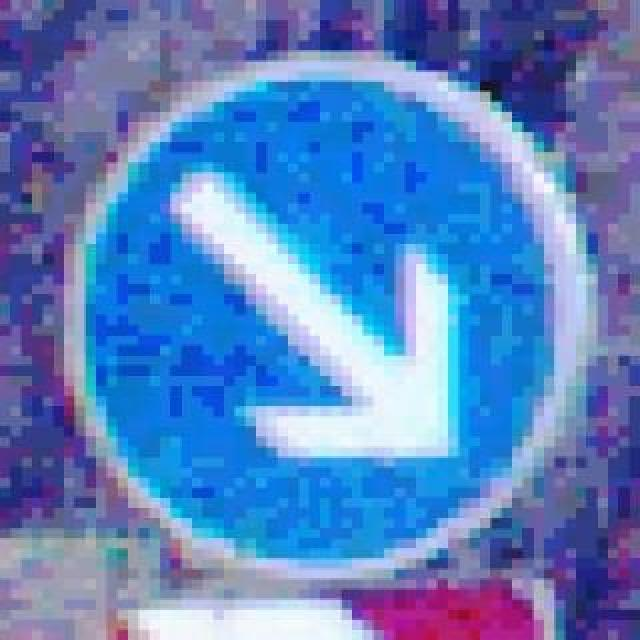keep right: (32, 62, 576, 590)
